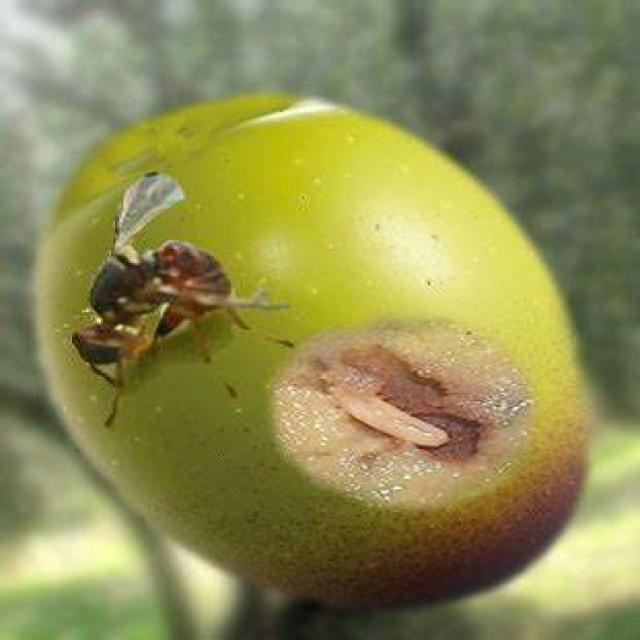Olive Fruit Fly: (35, 95, 593, 605)
